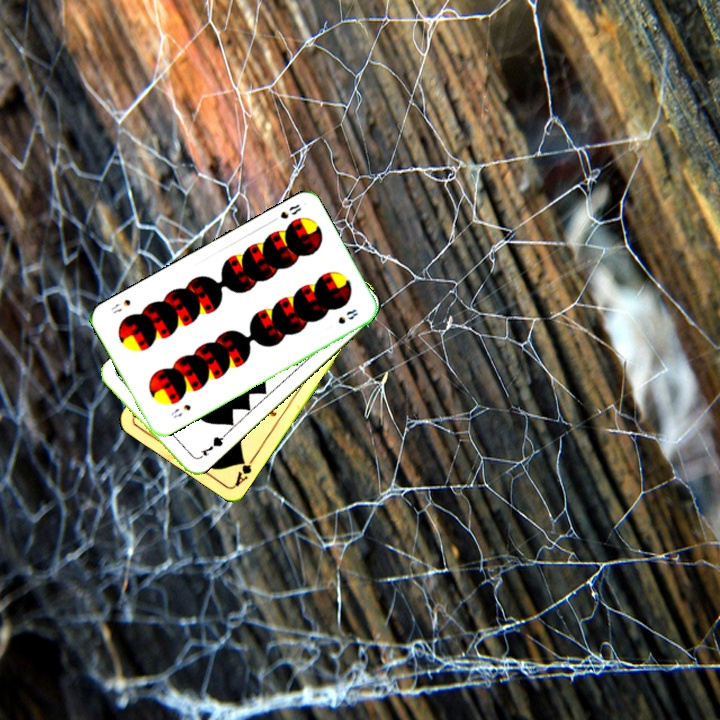G7: (197, 431, 227, 458)
GA: (231, 452, 259, 488)
S8: (267, 200, 304, 225), (166, 400, 194, 421)
